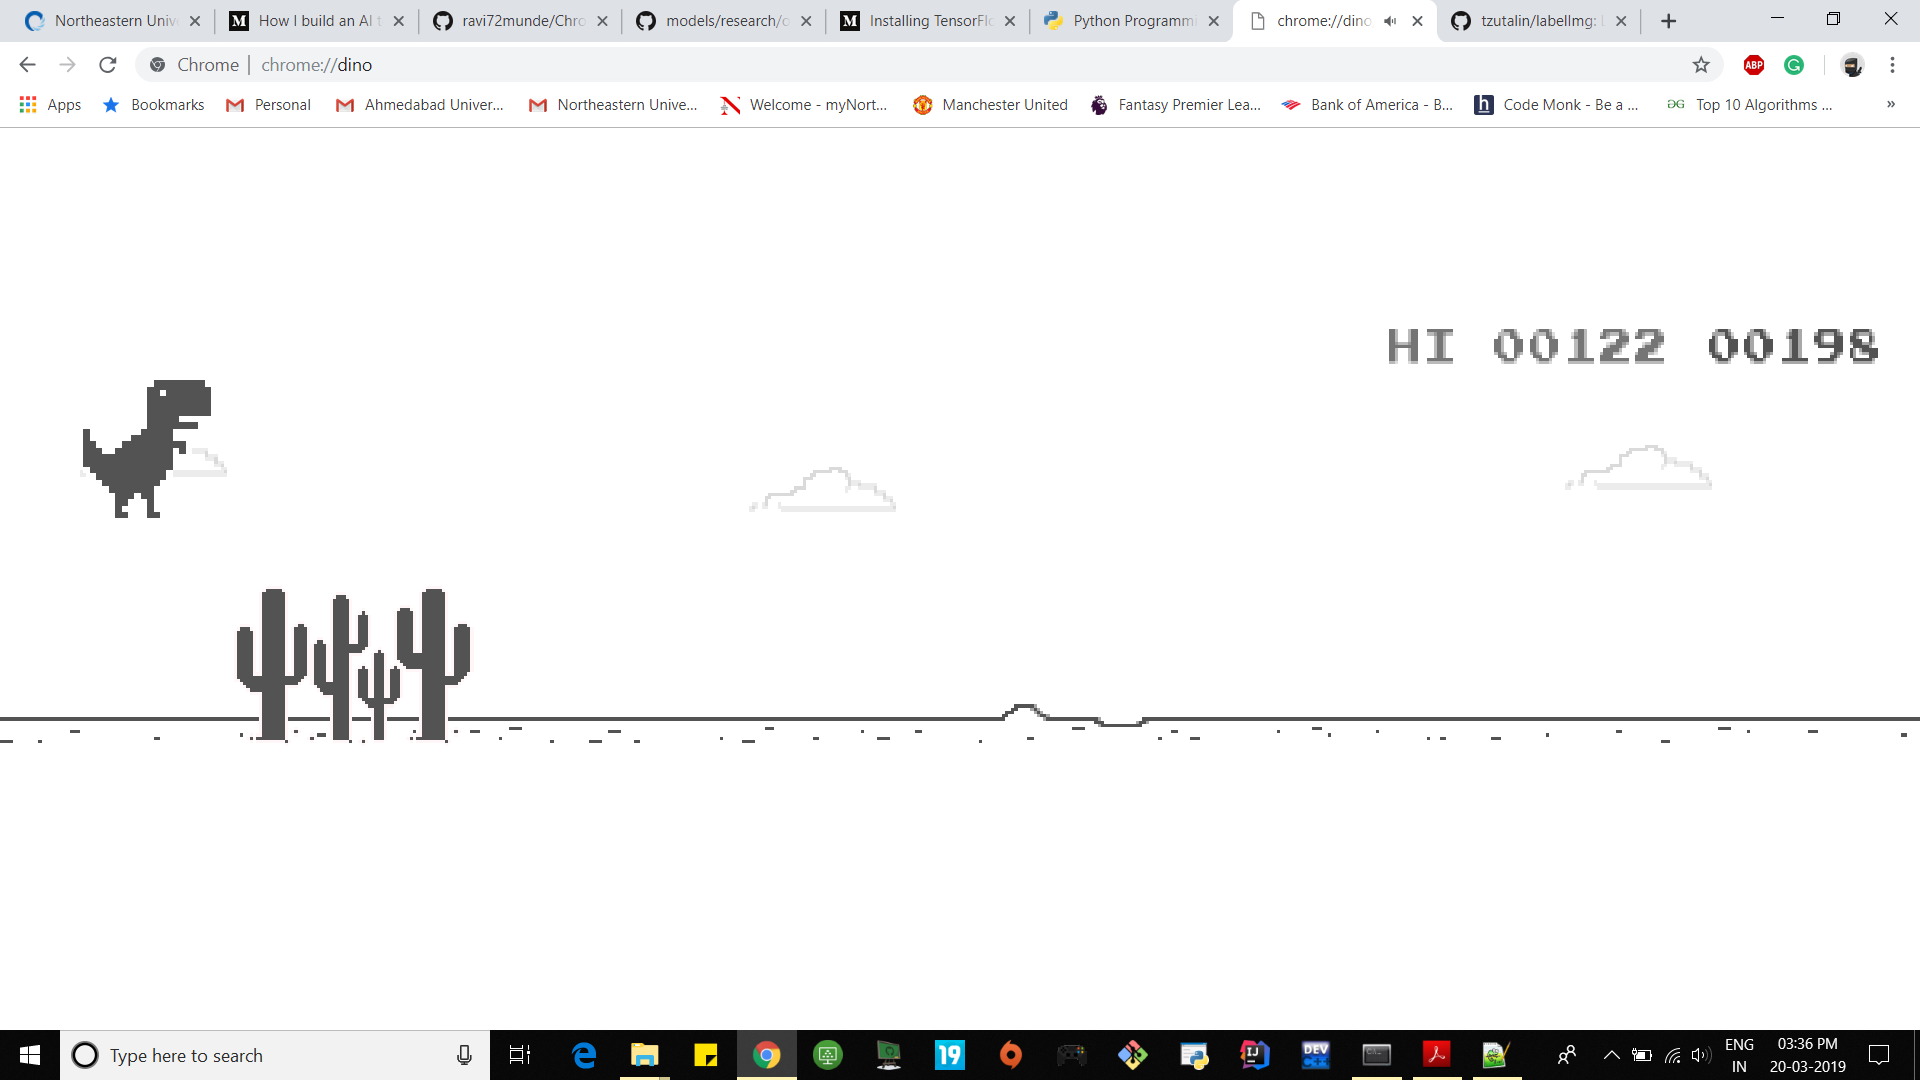cactus-4: (235, 582, 473, 742)
dino: (82, 376, 215, 520)
